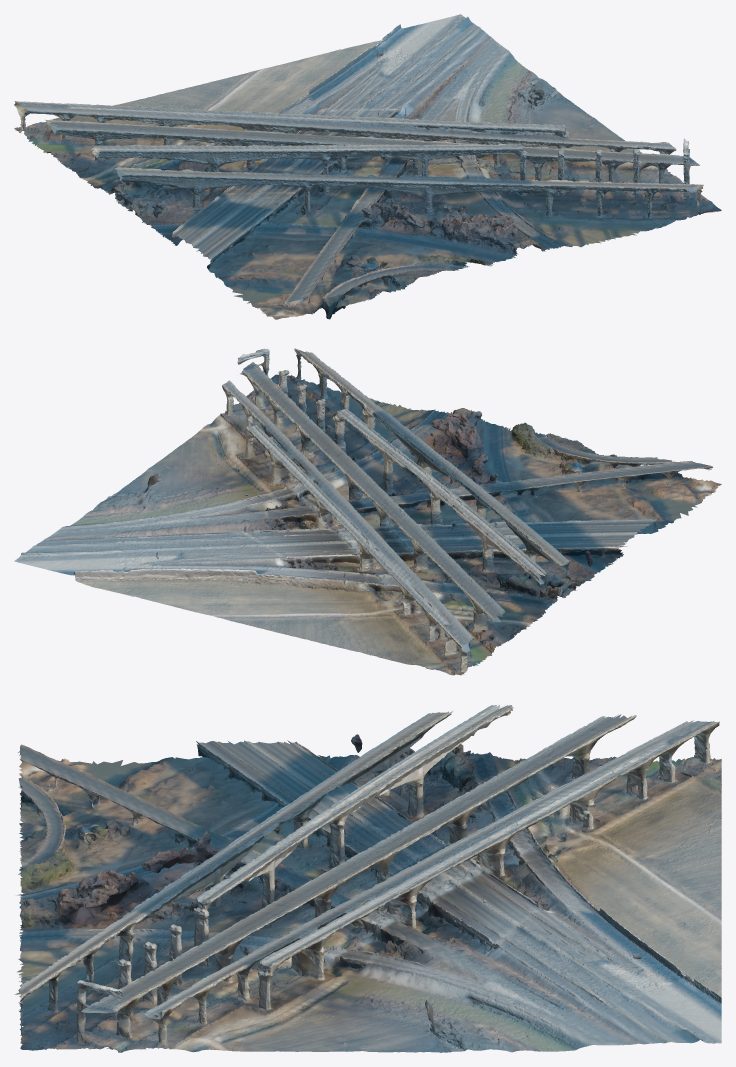
The model's file is EnvAsset_009_Tile_20.obj.
3 renders of one model, top to bottom at view 1: azimuth 30°, elevation 25°; view 2: azimuth 150°, elevation 25°; view 3: azimuth 270°, elevation 25°, orthographic. The views are drawn at different scales.
Size of the model in its own units: 348 by 46.19 by 353.
1 material, 1 textured.
